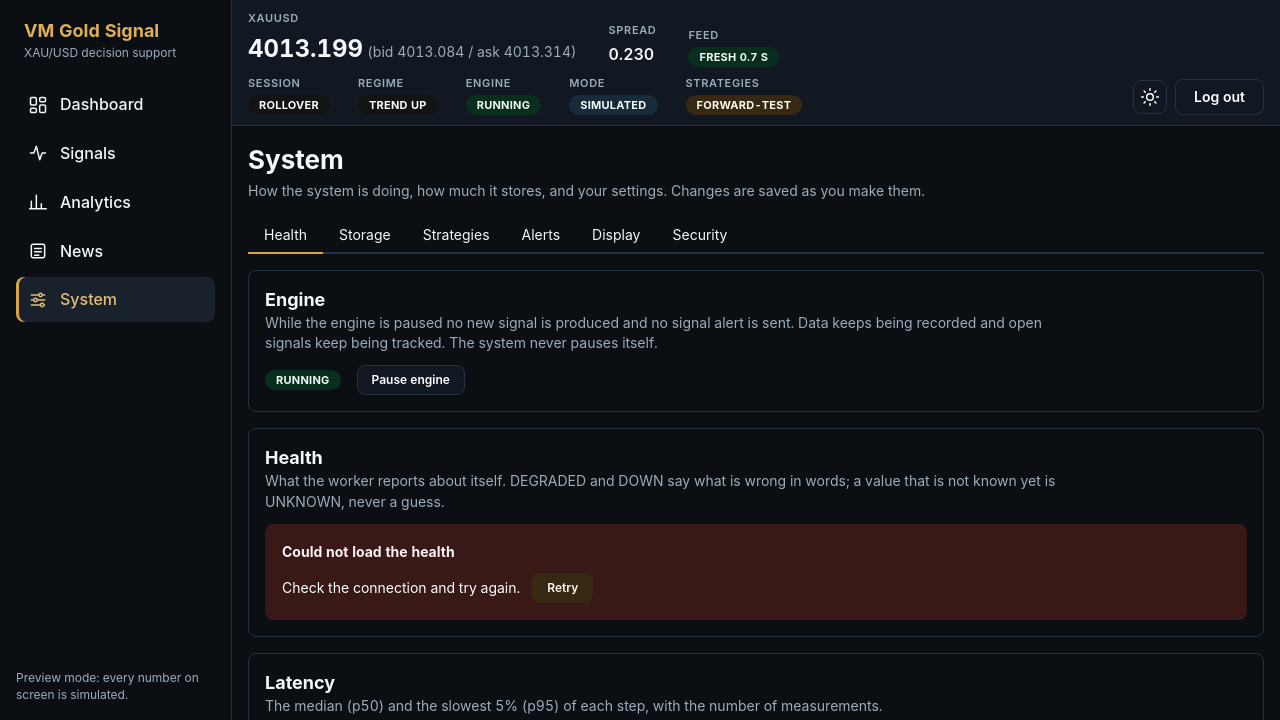
Scenario: the health tab › says that the health could not be loaded, and loads it on a retry
Check: the tab "Health" is shown, box [248,218,323,254]
Check: the message shows "Could not load the health", box [282,543,455,560]
Click the button "Retry": [563, 588] box [532,573,593,603]
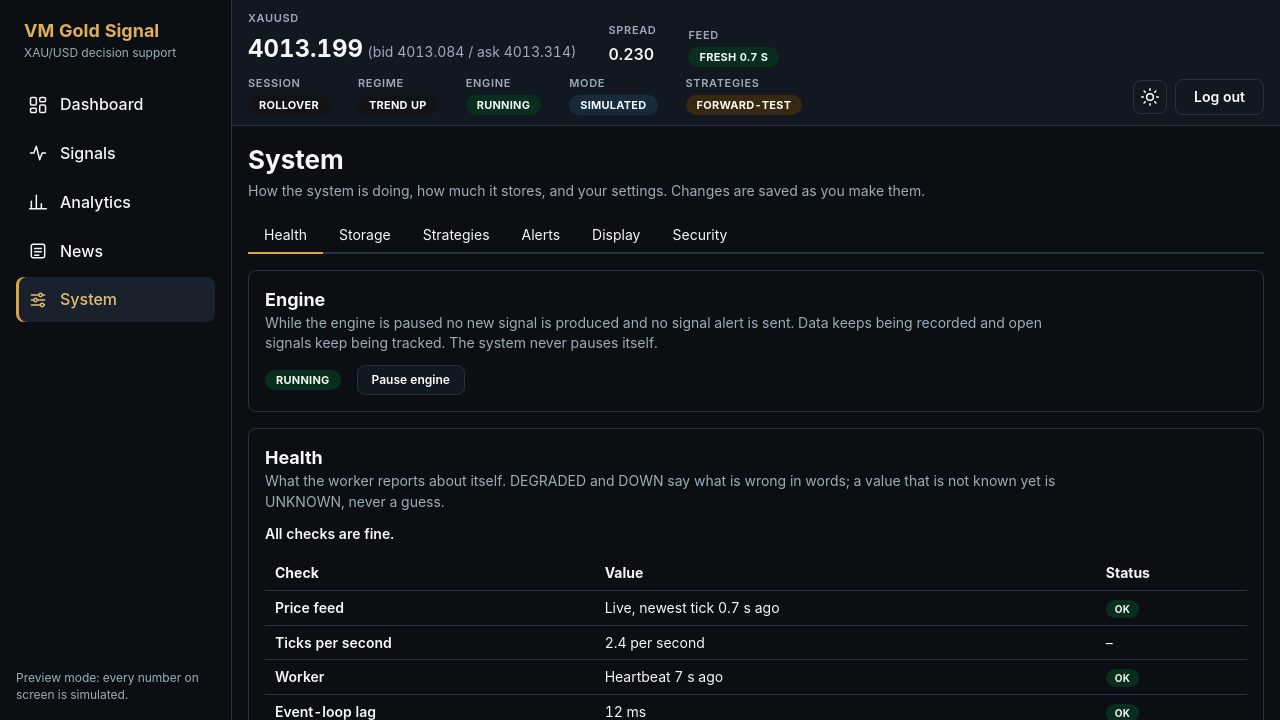
Check: the message "All checks are fine." is shown, box [265,525,394,542]
